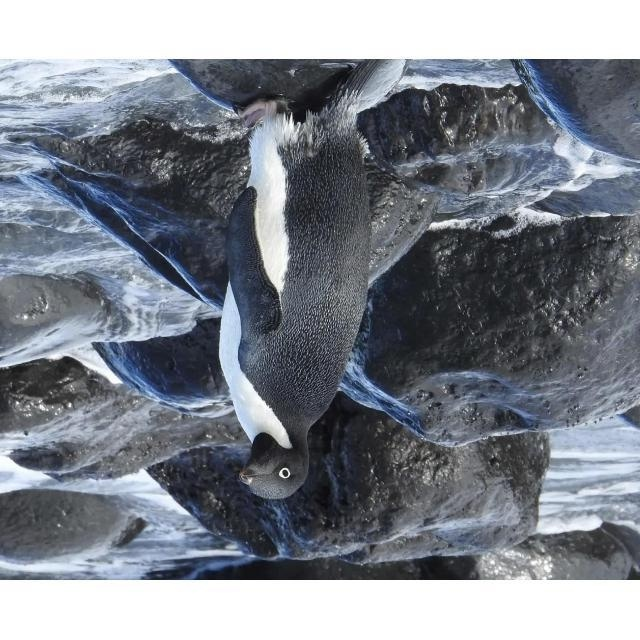penguin: (218, 65, 374, 501)
